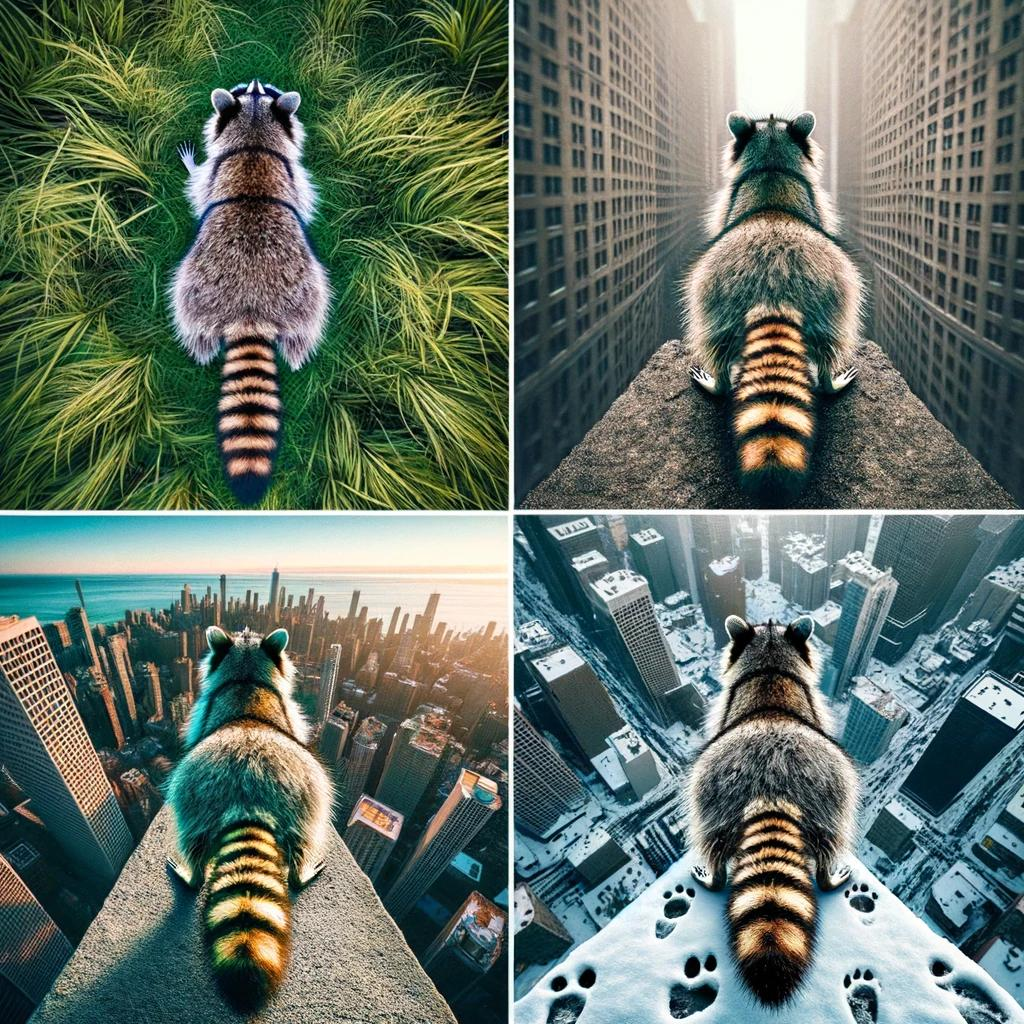raccoon: (665, 95, 878, 502), (155, 65, 347, 513), (150, 608, 345, 1024), (680, 605, 868, 1024)
